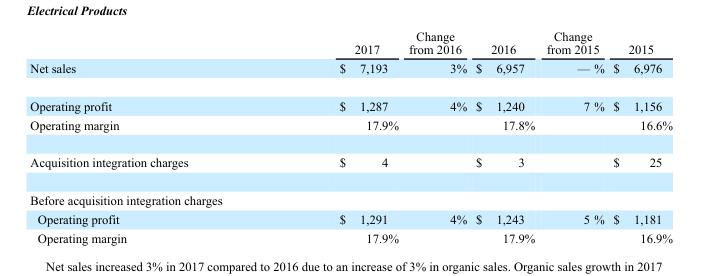table: (29, 28, 671, 244)
table column: (29, 28, 263, 244), (263, 28, 403, 244), (470, 28, 540, 244), (540, 28, 608, 244), (403, 28, 470, 244), (608, 28, 671, 244)
table column header: (29, 28, 671, 57)
table projected row header: (29, 181, 671, 209)
table row: (29, 143, 671, 181), (29, 28, 671, 57), (29, 57, 671, 86), (29, 114, 671, 143), (29, 86, 671, 114), (29, 181, 671, 209), (29, 209, 671, 228), (29, 228, 671, 244)
